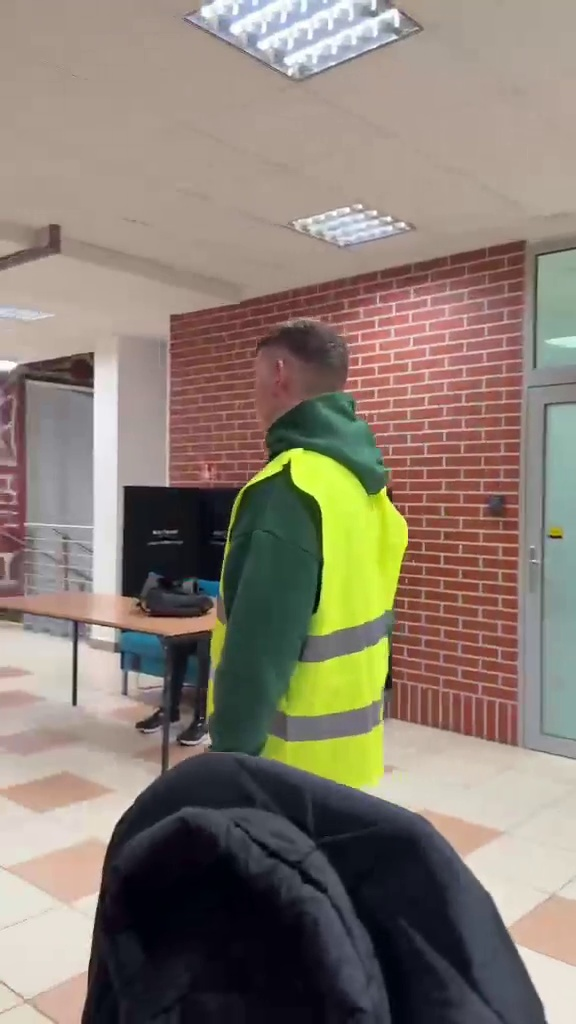vest: (204, 317, 414, 802)
